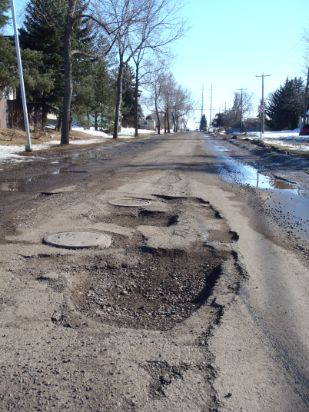pothole: (71, 241, 234, 337), (98, 206, 178, 233), (156, 187, 224, 217), (199, 228, 240, 244)
